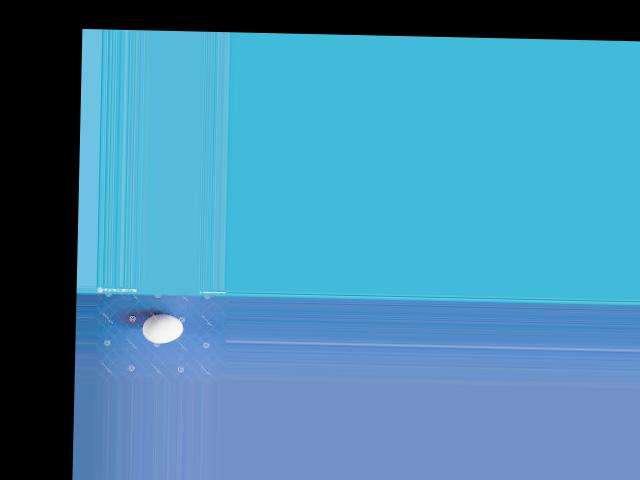egg: (142, 313, 184, 343)
